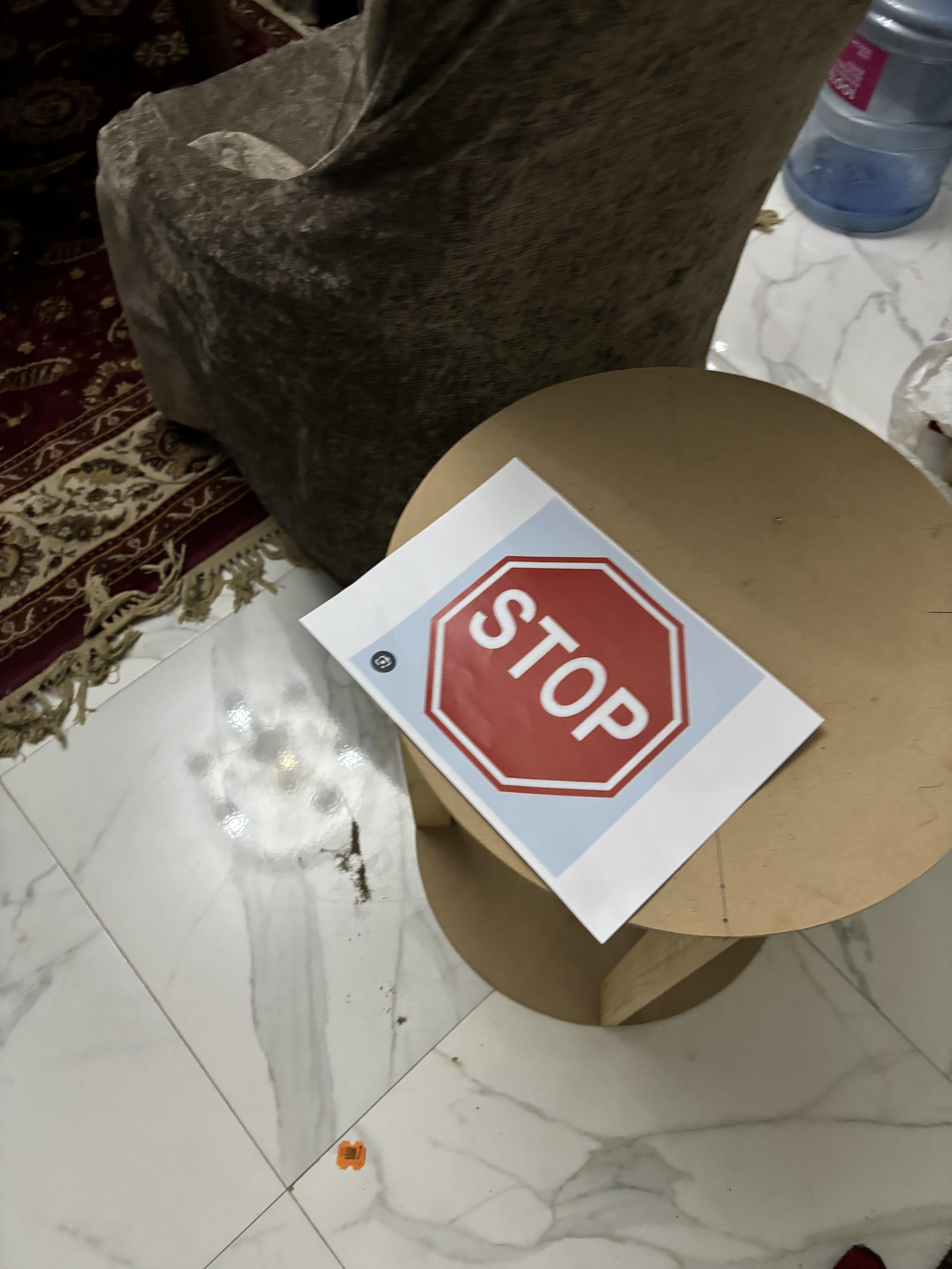Stop: (422, 554, 700, 803)
